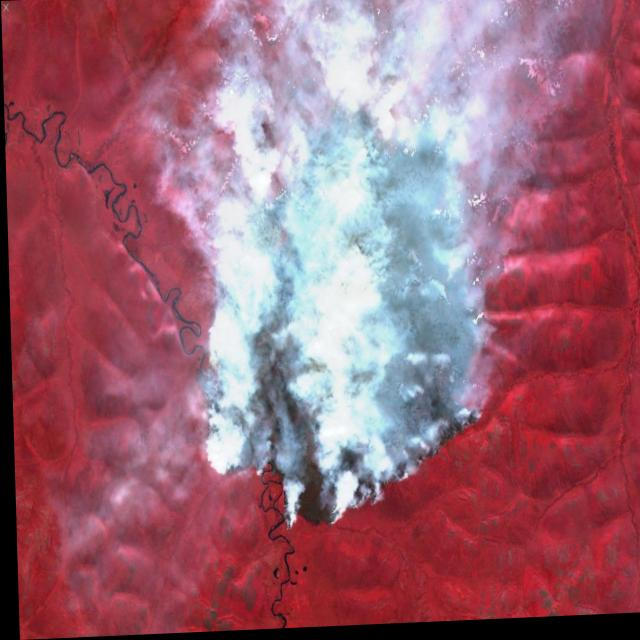fire: (187, 93, 491, 535)
